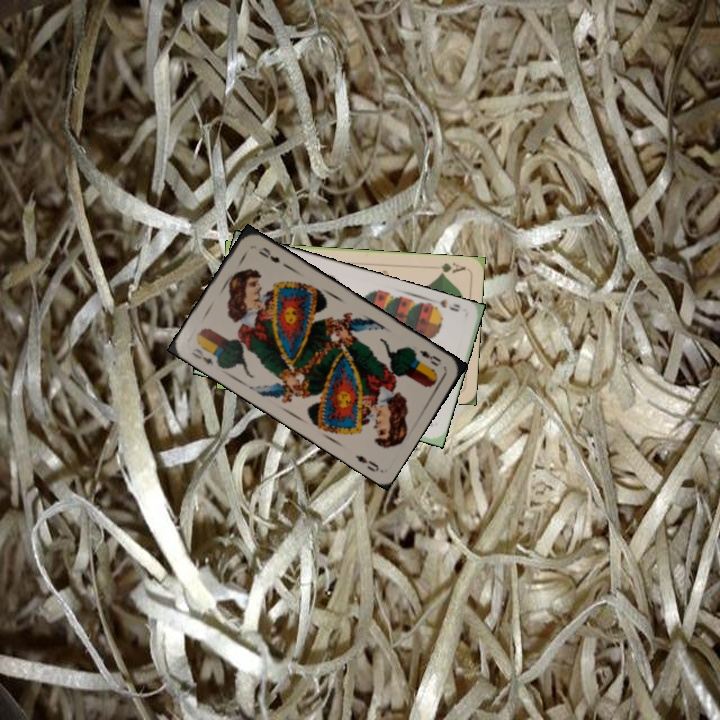EO: (409, 346, 443, 369), (187, 344, 216, 368)
GA: (436, 258, 468, 277)
S9: (426, 296, 463, 316)
